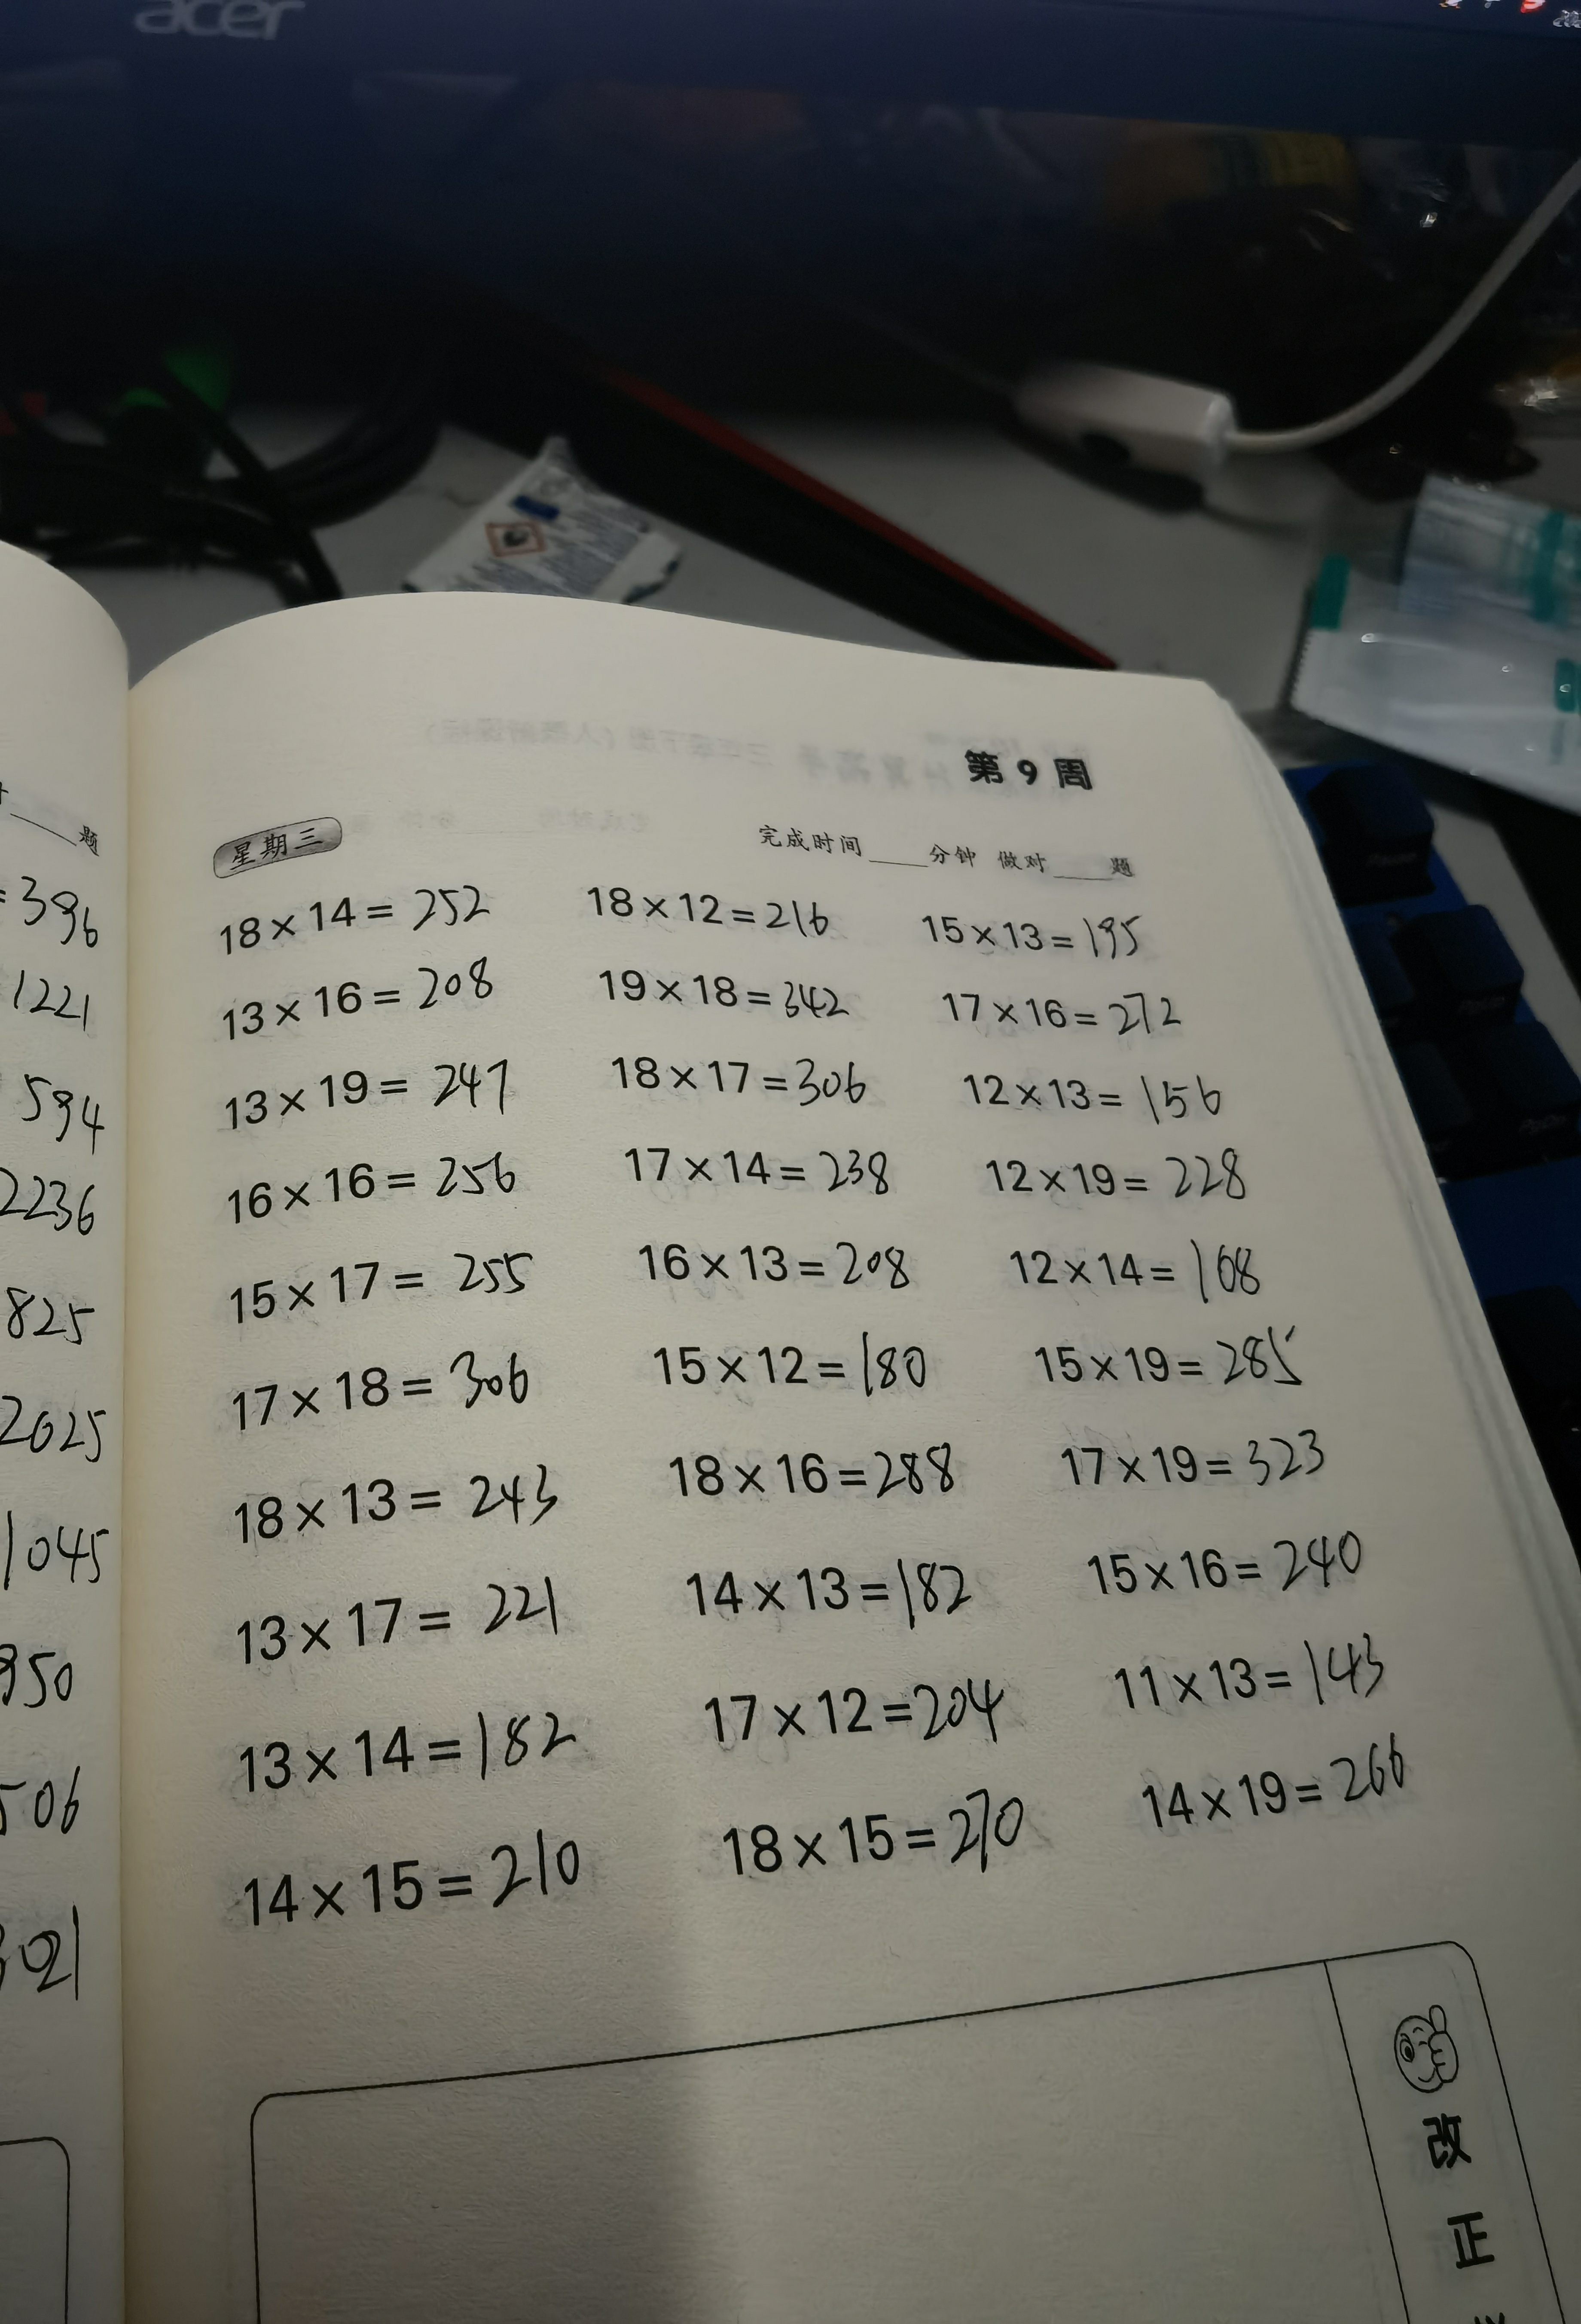equation: (198, 1819, 589, 1936), (706, 1779, 1089, 1885), (194, 1560, 586, 1659), (1119, 1726, 1438, 1842), (182, 1699, 595, 1789), (178, 1128, 549, 1225), (176, 1465, 575, 1553), (593, 1117, 921, 1223), (644, 1406, 981, 1503), (175, 1345, 551, 1428), (603, 1219, 926, 1311), (1004, 1207, 1292, 1309), (1103, 1620, 1445, 1705), (184, 1046, 540, 1126), (171, 873, 526, 953), (1048, 1406, 1343, 1500), (1083, 1523, 1429, 1602), (958, 1124, 1292, 1205), (593, 1029, 873, 1124), (185, 1237, 568, 1306), (572, 858, 859, 948), (648, 1316, 958, 1399), (662, 1555, 1043, 1622), (182, 963, 522, 1034), (953, 1041, 1253, 1117), (923, 958, 1209, 1038), (683, 1682, 1022, 1747), (1016, 1323, 1350, 1389), (910, 882, 1184, 953), (589, 958, 849, 1029)
